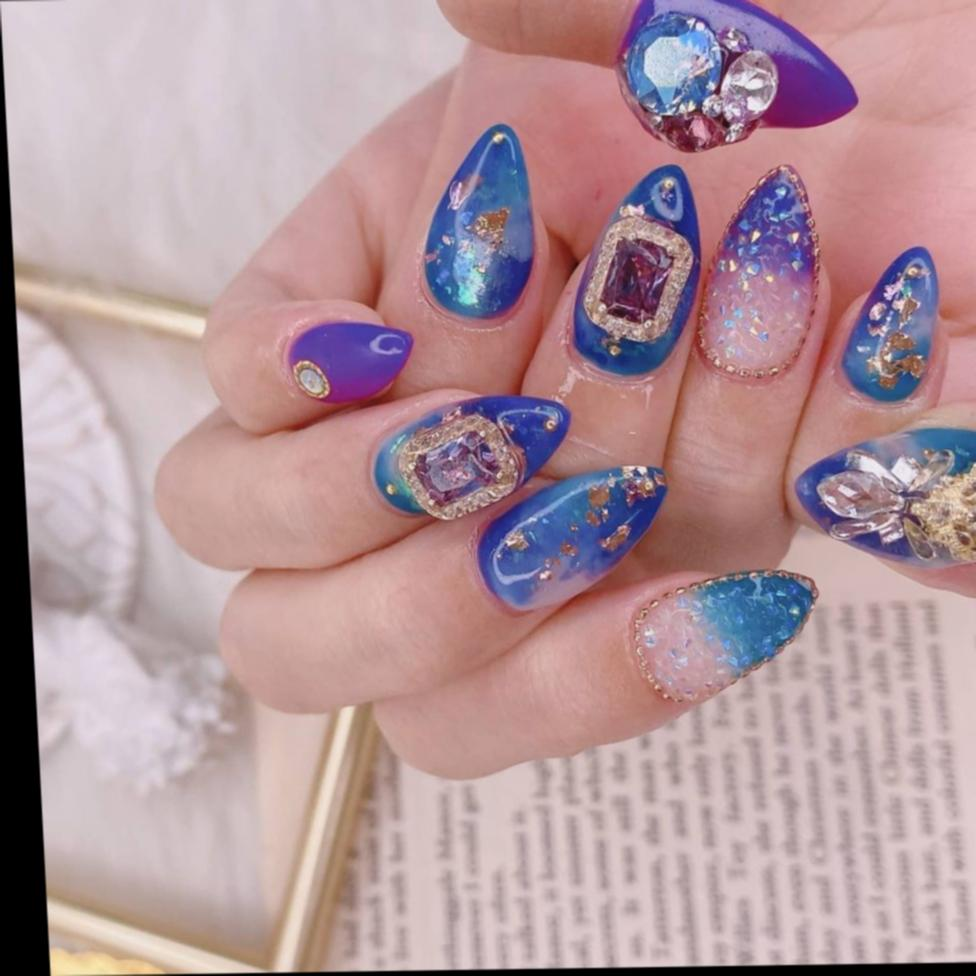nail: (609, 0, 861, 155), (684, 163, 828, 386), (466, 462, 674, 616), (407, 122, 543, 333), (625, 567, 824, 706), (366, 392, 576, 523), (789, 424, 976, 570), (826, 245, 951, 415), (278, 315, 416, 406)
